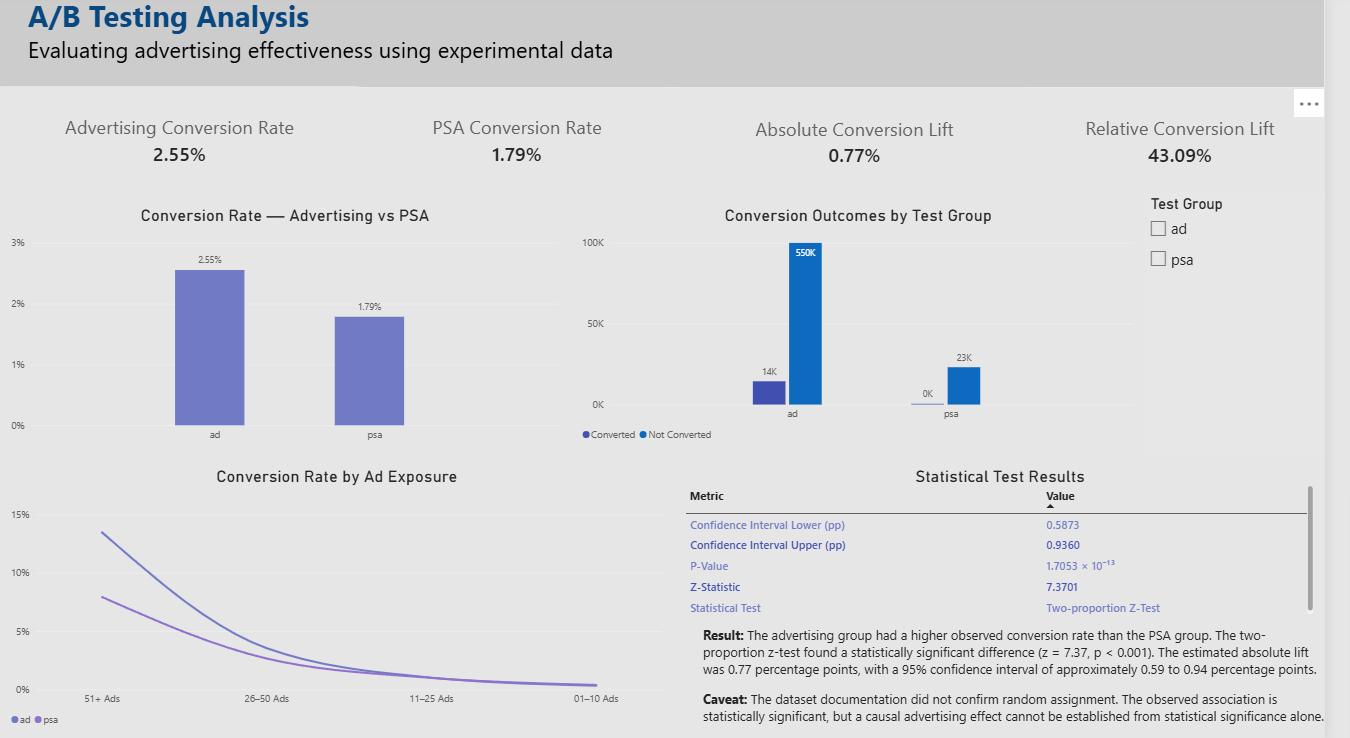

Layout of this report page (visuals, bound fields, positions):
{"tool":"powerbi","page":{"name":"A/B Testing Analysis","canvas":[1920,1080],"ordinal":2},"visuals":[{"type":"cardVisual","fields":{"Data":["fact_ab_test_user.Relative Conversion Lift"]},"box":[1498.4,133.9,421.7,155.6],"z":0},{"type":"textbox","box":[0,0,1920.1,133.9],"z":1000},{"type":"slicer","fields":{"Values":["fact_ab_test_user.test_group"]},"box":[1659.5,289.5,260.6,162.9],"z":2000},{"type":"cardVisual","fields":{"Data":["fact_ab_test_user.Advertising Conversion Rate"]},"box":[0,132.1,521.2,155.6],"z":3000},{"type":"cardVisual","fields":{"Data":["fact_ab_test_user.PSA Conversion Rate"]},"box":[521.2,133.9,456,153.8],"z":4000},{"type":"cardVisual","fields":{"Data":["fact_ab_test_user.Absolute Conversion Lift"]},"box":[977.2,133.9,521,156],"z":5000},{"type":"clusteredColumnChart","title":"Conversion Rate — Advertising vs PSA","fields":{"Category":["fact_ab_test_user.test_group"],"Y":["fact_ab_test_user.Experiment Conversion Rate"]},"box":[0,289.5,827,378.2],"z":6000},{"type":"clusteredColumnChart","title":"Conversion Outcomes by Test Group","fields":{"Category":["fact_ab_test_user.test_group"],"Series":["fact_ab_test_user.Conversion Status"],"Y":["fact_ab_test_user.Total Experiment Users"]},"box":[827,289.5,832.4,378.2],"z":7000},{"type":"lineChart","title":"Conversion Rate by Ad Exposure","fields":{"Category":["fact_ab_test_user.Ad Exposure Band"],"Series":["fact_ab_test_user.test_group"],"Y":["fact_ab_test_user.Experiment Conversion Rate"]},"box":[0,667.8,977.2,412.6],"z":8000},{"type":"tableEx","title":"Statistical Test Results","fields":{"Values":["AB Test Summary.Metric ","AB Test Summary.Value"]},"box":[977.2,667.8,942.8,246.1],"z":9000},{"type":"textbox","box":[977.2,913.9,942.8,166.5],"z":10000}]}

Visuals, with their boxes in screenshot pixels (x1, y1, x2, y2), scaled from the page's 1920x1080 canvas onto the 1350x738 screenshot:
cardVisual - fact_ab_test_user.Relative Conversion Lift: (1054, 91, 1349, 198)
textbox: (0, 0, 1349, 91)
slicer - fact_ab_test_user.test_group: (1167, 198, 1349, 309)
cardVisual - fact_ab_test_user.Advertising Conversion Rate: (0, 90, 366, 197)
cardVisual - fact_ab_test_user.PSA Conversion Rate: (366, 91, 687, 197)
cardVisual - fact_ab_test_user.Absolute Conversion Lift: (687, 91, 1053, 198)
"Conversion Rate — Advertising vs PSA" clusteredColumnChart: (0, 198, 581, 456)
"Conversion Outcomes by Test Group" clusteredColumnChart: (581, 198, 1167, 456)
"Conversion Rate by Ad Exposure" lineChart: (0, 456, 687, 737)
"Statistical Test Results" tableEx: (687, 456, 1349, 624)
textbox: (687, 624, 1349, 737)
